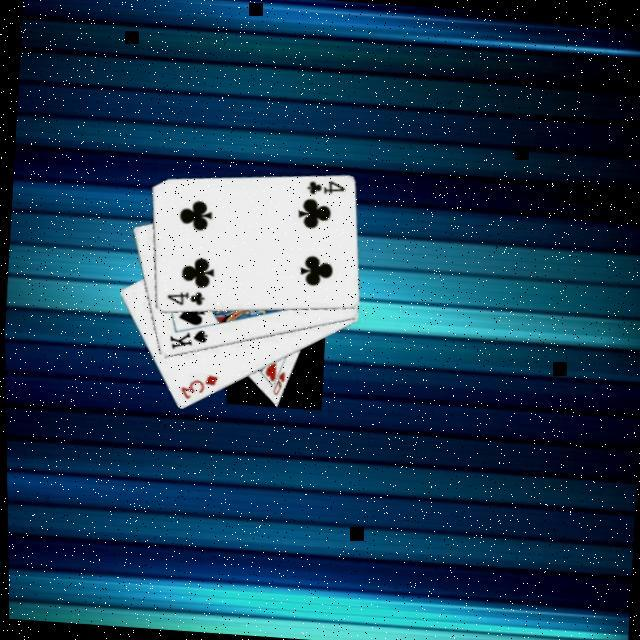3D: (173, 371, 217, 406)
4C: (300, 177, 345, 200), (160, 288, 203, 311)
KS: (161, 326, 207, 356)
